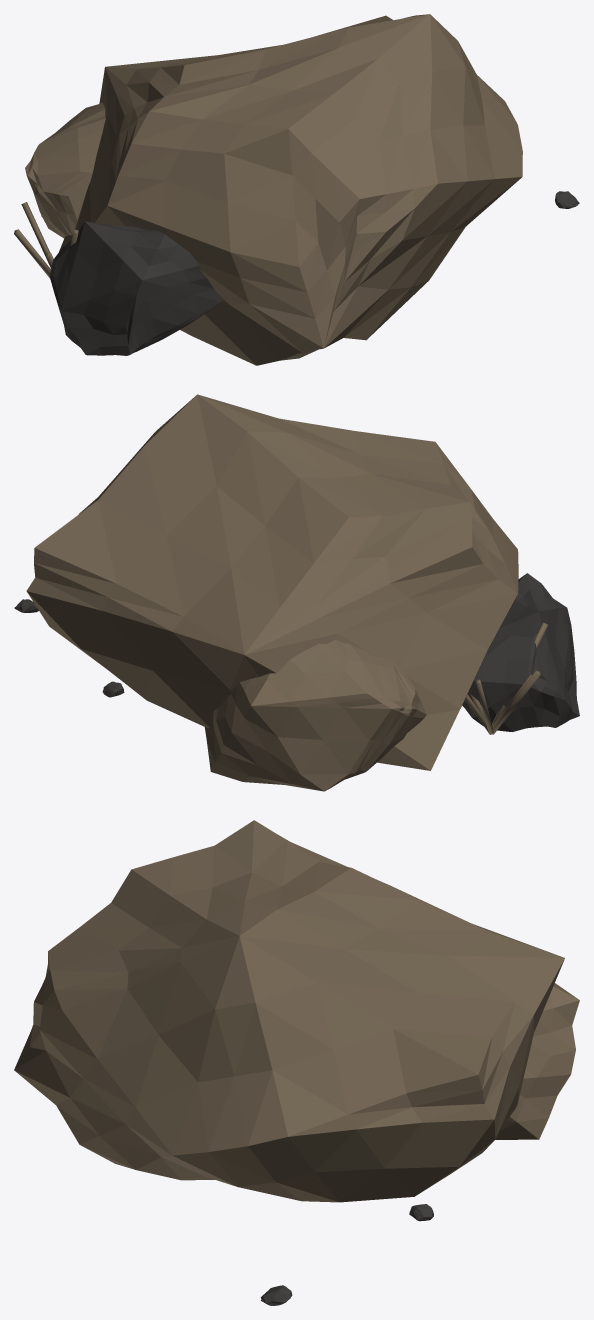
Rendered from cover_rock_20.glb.
The picture shows the model from 3 angles, top to bottom: view 1: azimuth 30°, elevation 25°; view 2: azimuth 150°, elevation 25°; view 3: azimuth 270°, elevation 25°; orthographic projection. The views are drawn at different scales.
Parts seen in each view (by area): view 1: rock_0, rock_2, rock_1; view 2: rock_0, rock_1, rock_2, weed_3; view 3: rock_0, rock_1.
Boxes of the visible parts, left/top/right/bottom form: rock_0: left=59, top=14, right=522, bottom=365; rock_2: left=49, top=221, right=221, bottom=355; rock_1: left=25, top=102, right=105, bottom=238; rock_0: left=26, top=394, right=518, bottom=770; rock_1: left=204, top=639, right=426, bottom=791; rock_2: left=462, top=573, right=579, bottom=731; weed_3: left=492, top=670, right=540, bottom=734; rock_0: left=14, top=820, right=564, bottom=1202; rock_1: left=495, top=983, right=579, bottom=1139.
Bounding box in the file's own units: 2.24 × 1.03 × 1.74.
